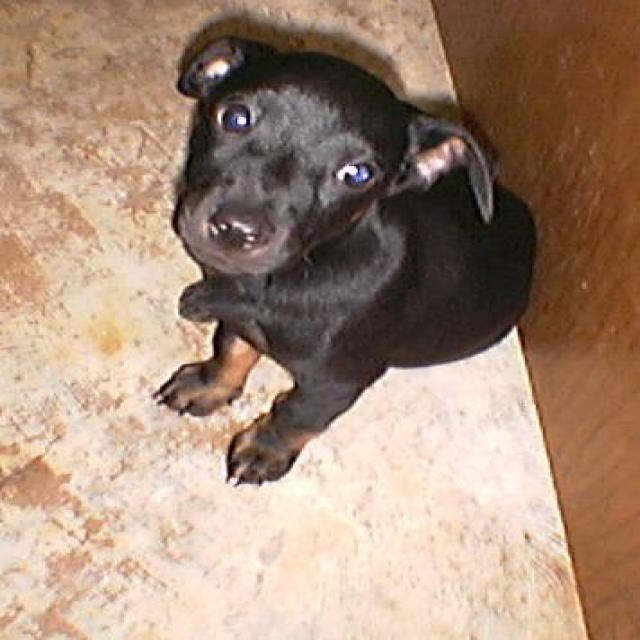dog: (151, 33, 538, 487)
